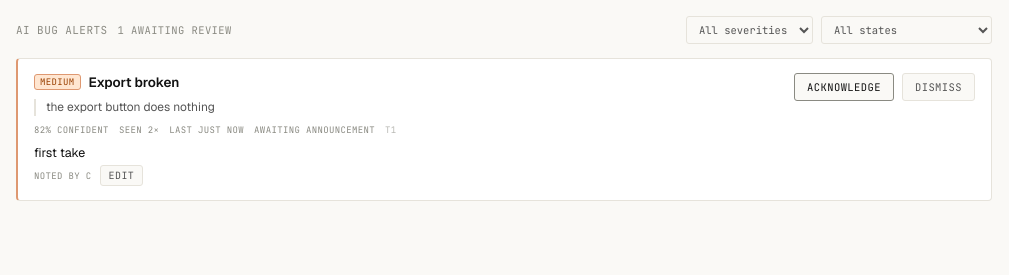
Test case: BugAlertsPage › seeds the editor with the existing note so an edit is not a retype
Click the button with class "note-edit" at (121, 176), box x1=100 y1=165 x2=143 y2=186
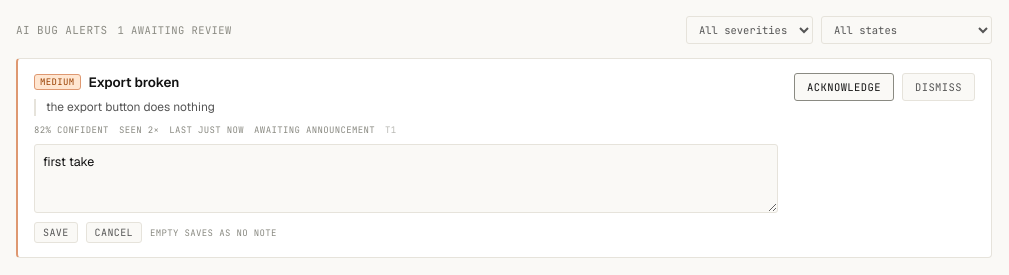
Now the text box with class "note-input" holds "first take", box x1=34 y1=144 x2=778 y2=213
